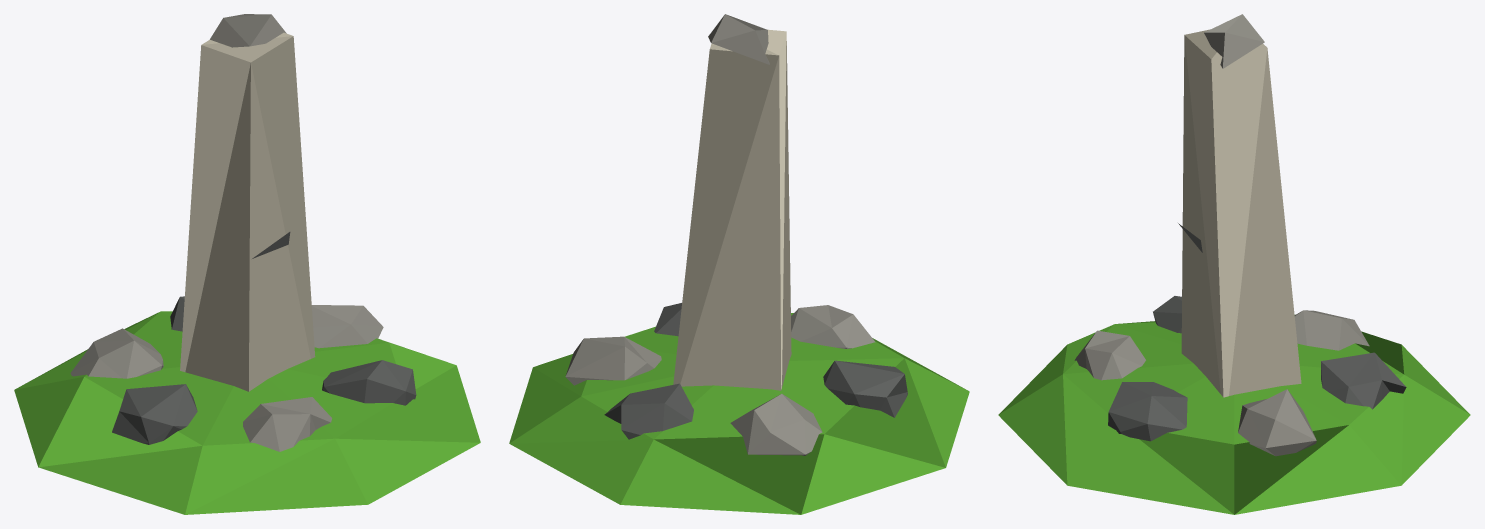
Rendered from three_farthing_stone_lod1.glb.
3 views of the same model, side by side, from view 1: azimuth 30°, elevation 25°; view 2: azimuth 150°, elevation 25°; view 3: azimuth 270°, elevation 25° (orthographic). The views are drawn at different scales.
Parts seen in each view (by area): view 1: three_farthing_stone_lod1; view 2: three_farthing_stone_lod1; view 3: three_farthing_stone_lod1.
Boxes of the visible parts, left/top/right/bottom form: three_farthing_stone_lod1: left=14, top=14, right=480, bottom=514; three_farthing_stone_lod1: left=509, top=14, right=969, bottom=514; three_farthing_stone_lod1: left=998, top=14, right=1470, bottom=514.
Bounding box in the file's own units: 3.8 × 3.51 × 3.8.
